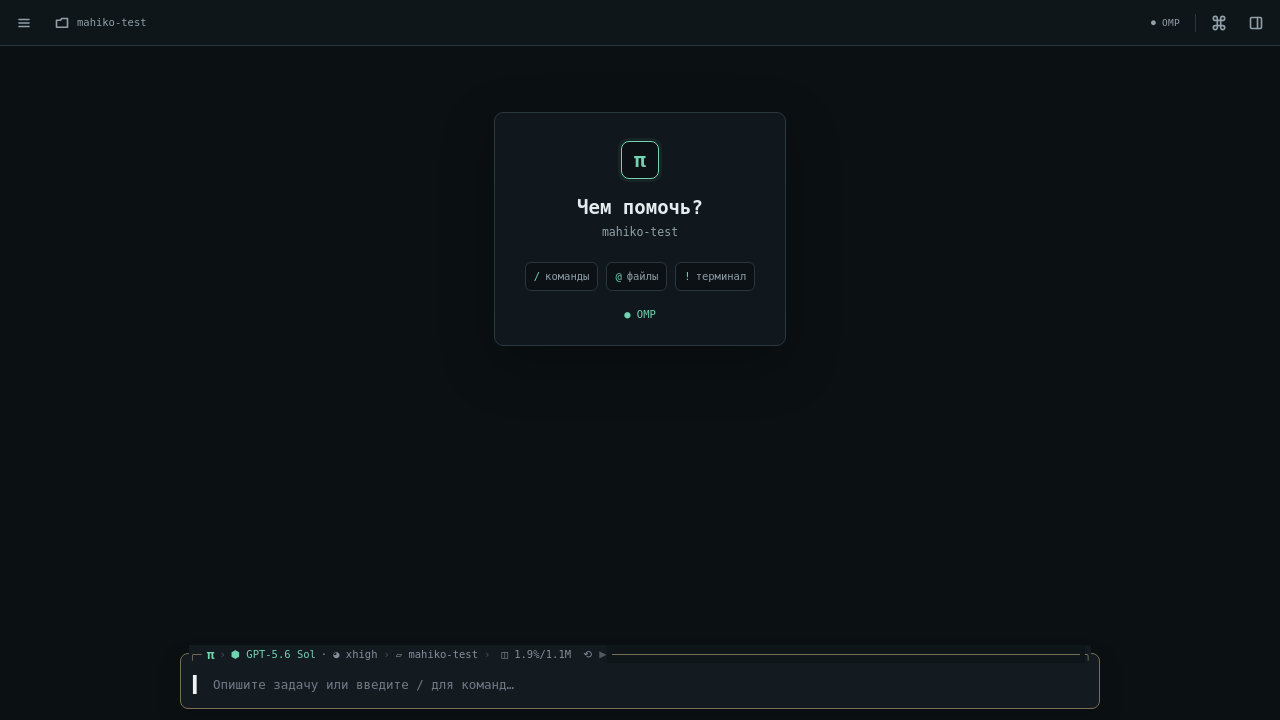
Test case: оболочка mahiko › сразу отражает выбранную модель, пока OMP подтверждает переключение
What coordinates should you click on to do the following:
click the button with aria-label "Выбрать модель: GPT-5.6 Sol"
I would click on:
 (273, 654)
Its box is [231,645,316,663].
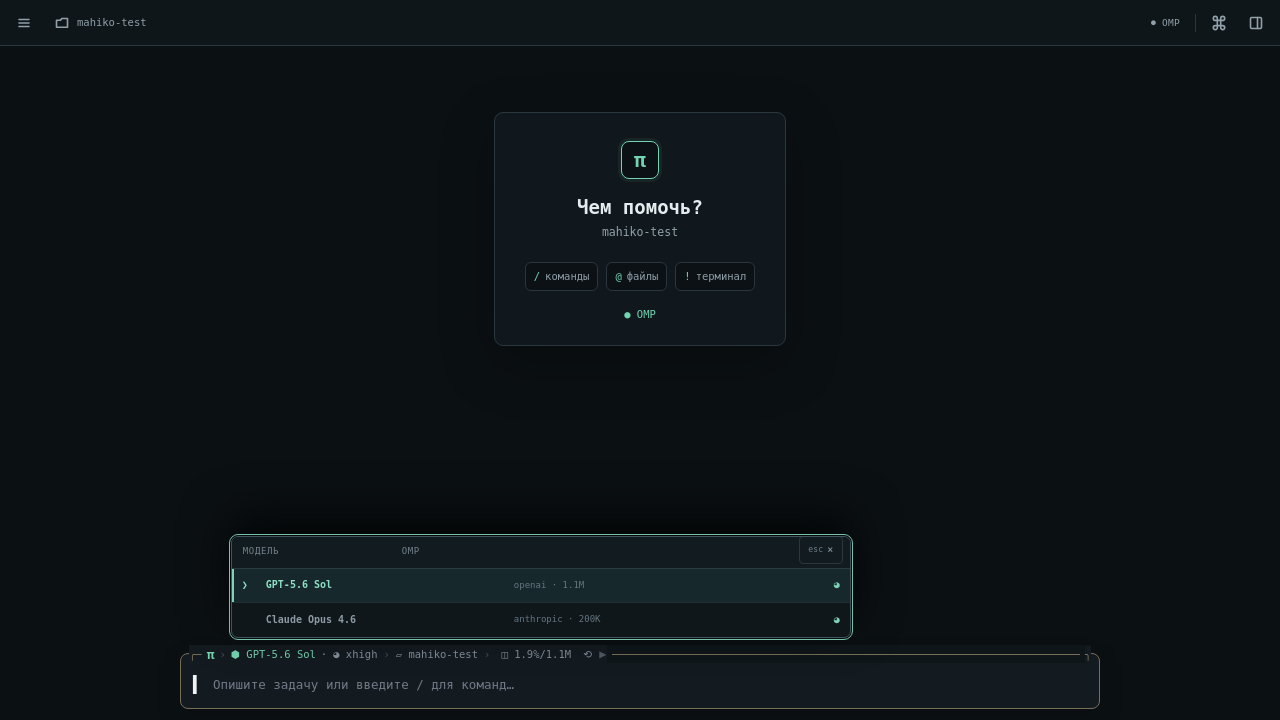
What coordinates should you click on to do the following:
click the option "Claude Opus 4.6 anthropic · 200K ◕"
I would click on:
 (541, 620)
Its box is [232,603,850,637].
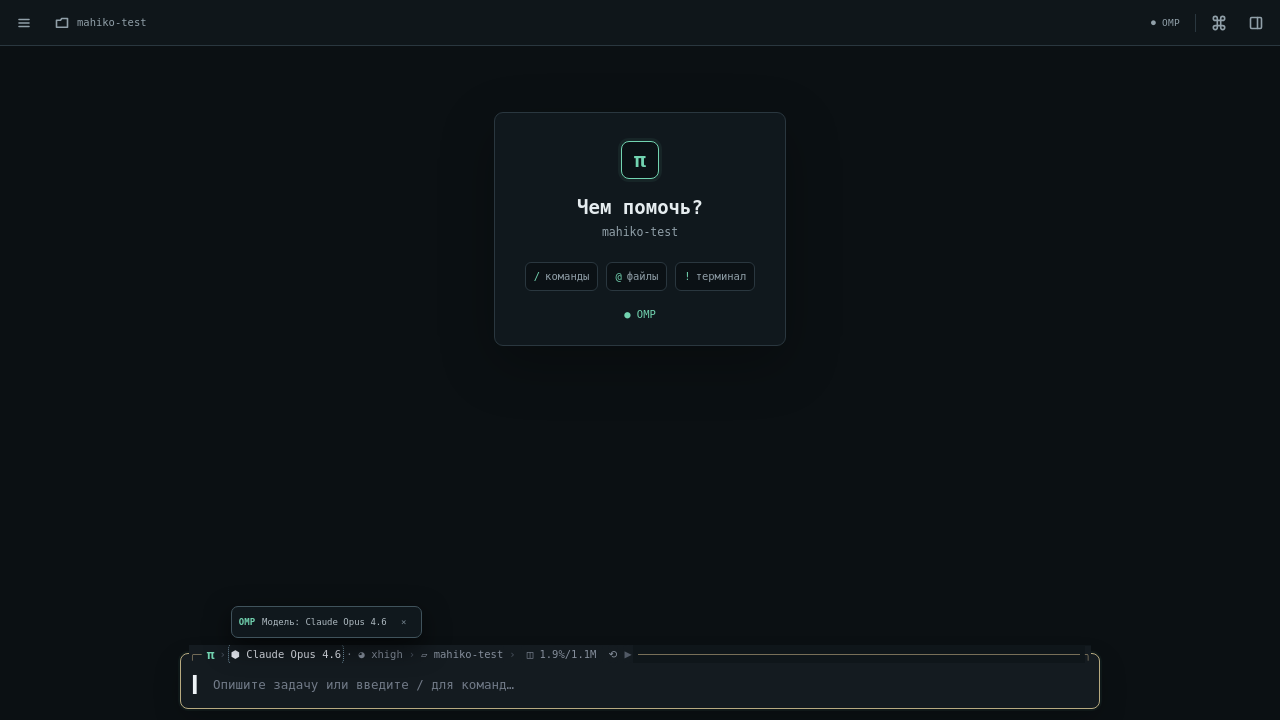
Check: the button with aria-label "Выбрать модель: Claude Opus 4.6" is shown, box [231,645,341,663]
Check: the text "Модель: Claude Opus 4.6" is shown, box [262,616,387,628]
